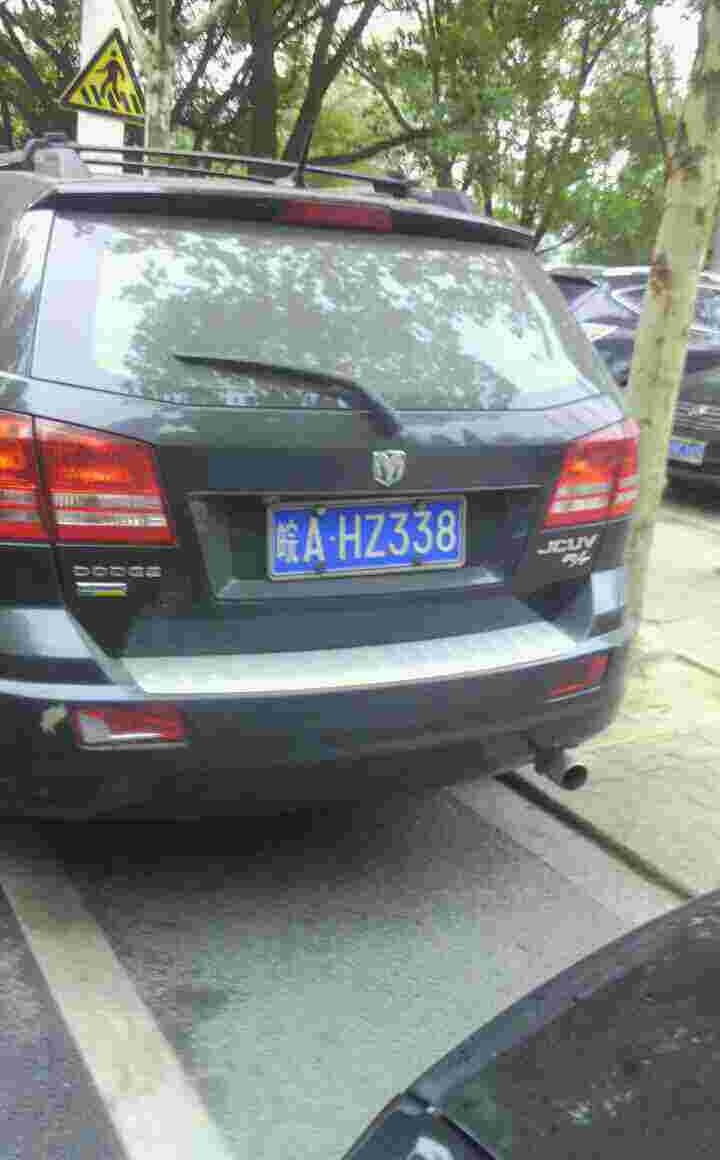license_plate: (277, 504, 465, 577)
